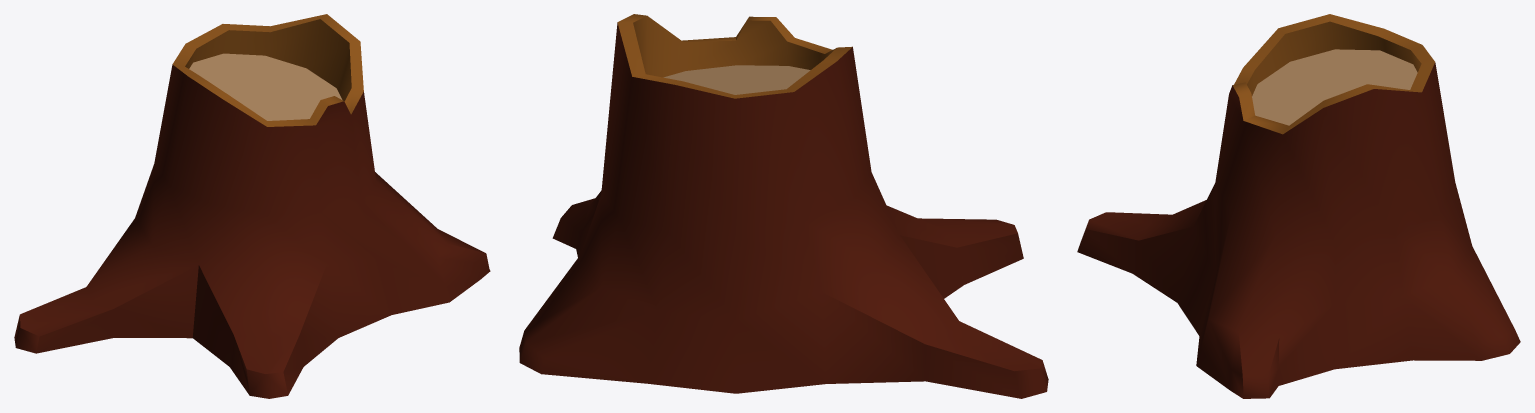
The model's file is Trestump_4.fbx.
The picture shows the model from 3 angles, left to right: view 1: azimuth 30°, elevation 25°; view 2: azimuth 150°, elevation 25°; view 3: azimuth 270°, elevation 25°; orthographic projection. The views are drawn at different scales.
Parts seen in each view (by area): view 1: Tree_stump_4; view 2: Tree_stump_4; view 3: Tree_stump_4.
Part boxes in pixels (x1,y1,x2,y2): Tree_stump_4: (14,14,490,398); Tree_stump_4: (519,14,1048,398); Tree_stump_4: (1077,14,1520,398).
Bounding box in the file's own units: 1.22 × 0.6395 × 1.
